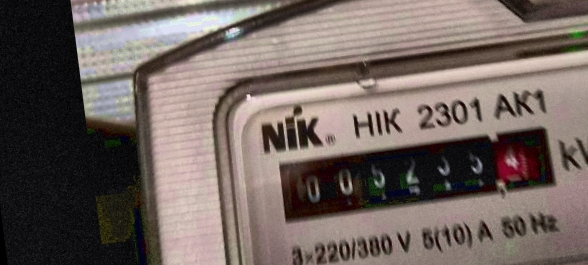0: (333, 162, 357, 197), (302, 170, 324, 203)
2: (398, 151, 423, 187)
3: (430, 144, 458, 180)
4: (498, 136, 524, 174)
5: (463, 139, 490, 178), (367, 156, 390, 191)
screen: (259, 111, 570, 235)
